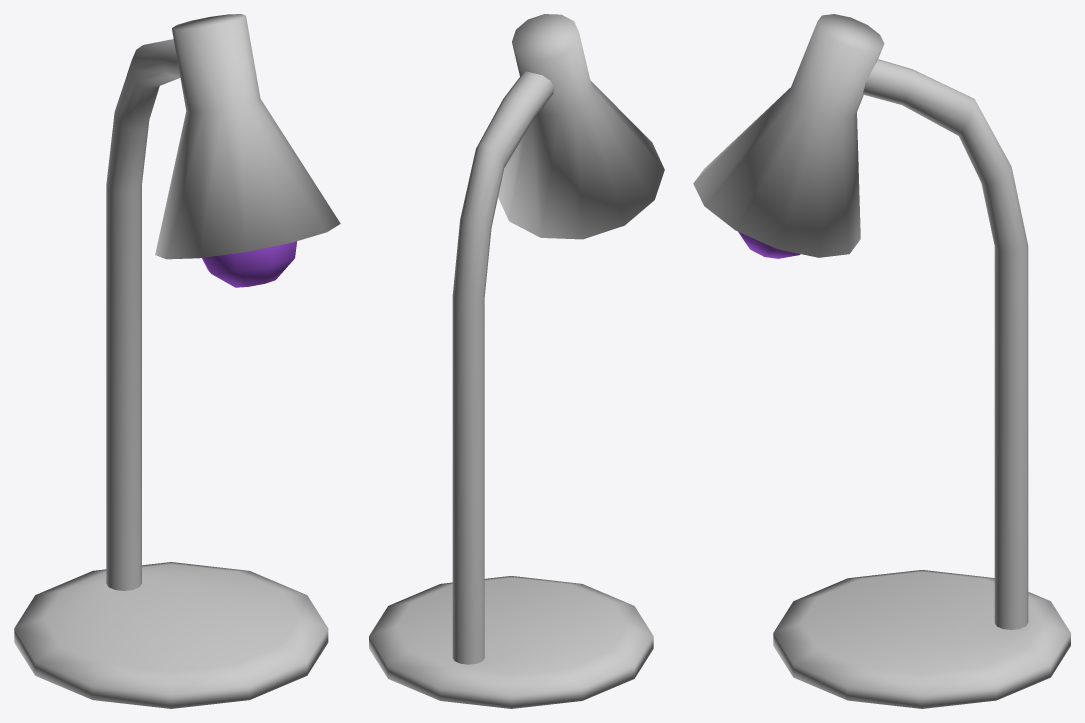
Rendered from lamp_wbulb.glb.
The picture shows the model from 3 angles, left to right: view 1: azimuth 30°, elevation 25°; view 2: azimuth 150°, elevation 25°; view 3: azimuth 270°, elevation 25°; orthographic projection. The views are drawn at different scales.
Visible parts, largest first — view 1: Lamp_wBulb; view 2: Lamp_wBulb; view 3: Lamp_wBulb.
Part boxes in pixels (x1,y1,x2,y2): Lamp_wBulb: [14, 14, 340, 708]; Lamp_wBulb: [369, 14, 664, 708]; Lamp_wBulb: [693, 14, 1070, 708].
Bounding box in the file's own units: 0.32 × 0.7416 × 0.4064.
